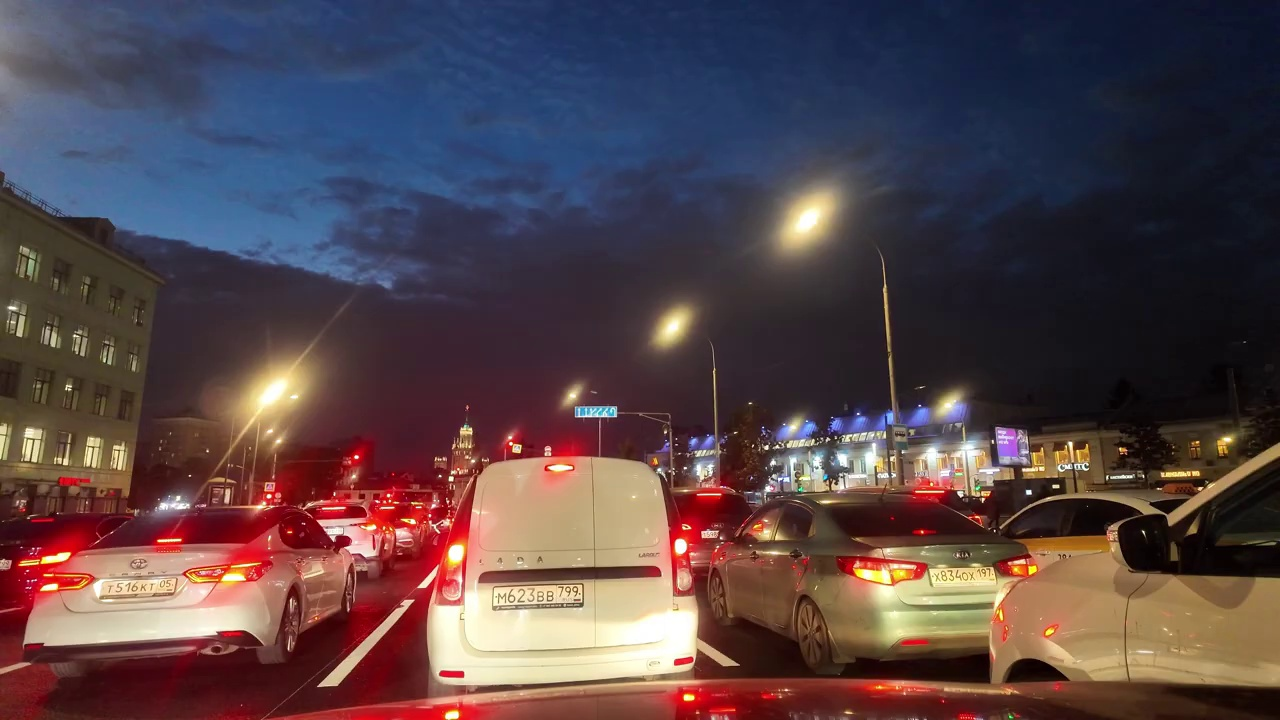acesa: (783, 192, 836, 248), (248, 369, 296, 415), (650, 303, 694, 350), (554, 382, 582, 413)
